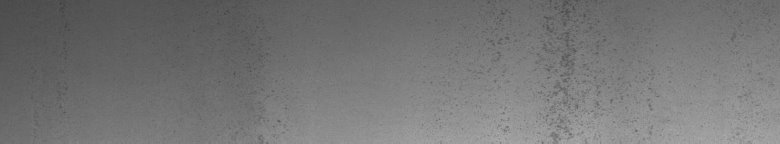ib: (484, 4, 656, 136)
